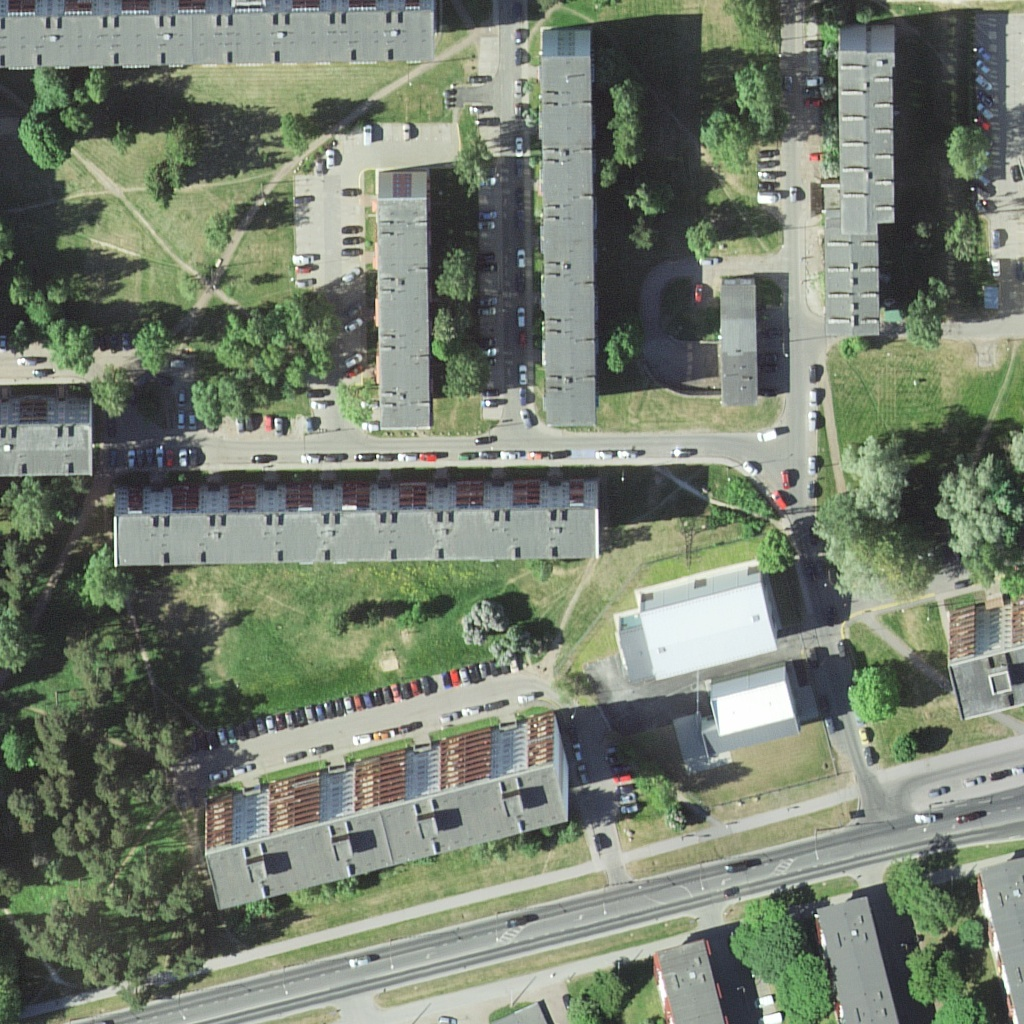building: (201, 708, 575, 915), (110, 484, 608, 566), (1, 1, 440, 73), (538, 30, 600, 429), (609, 568, 782, 678), (372, 170, 434, 426), (836, 23, 900, 229), (815, 897, 896, 1024), (941, 608, 1021, 718), (703, 668, 802, 756), (1, 397, 96, 483), (821, 223, 888, 342), (977, 858, 1024, 1007), (658, 936, 730, 1024), (720, 276, 762, 409)
